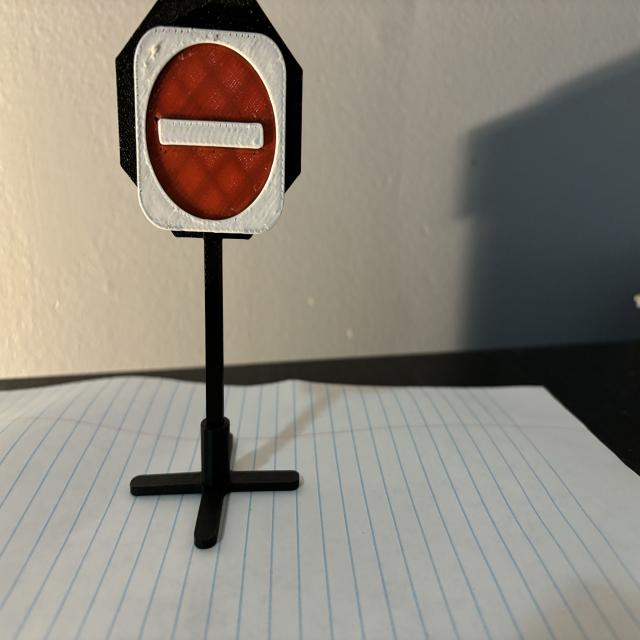sign_noentry: (135, 27, 287, 235)
